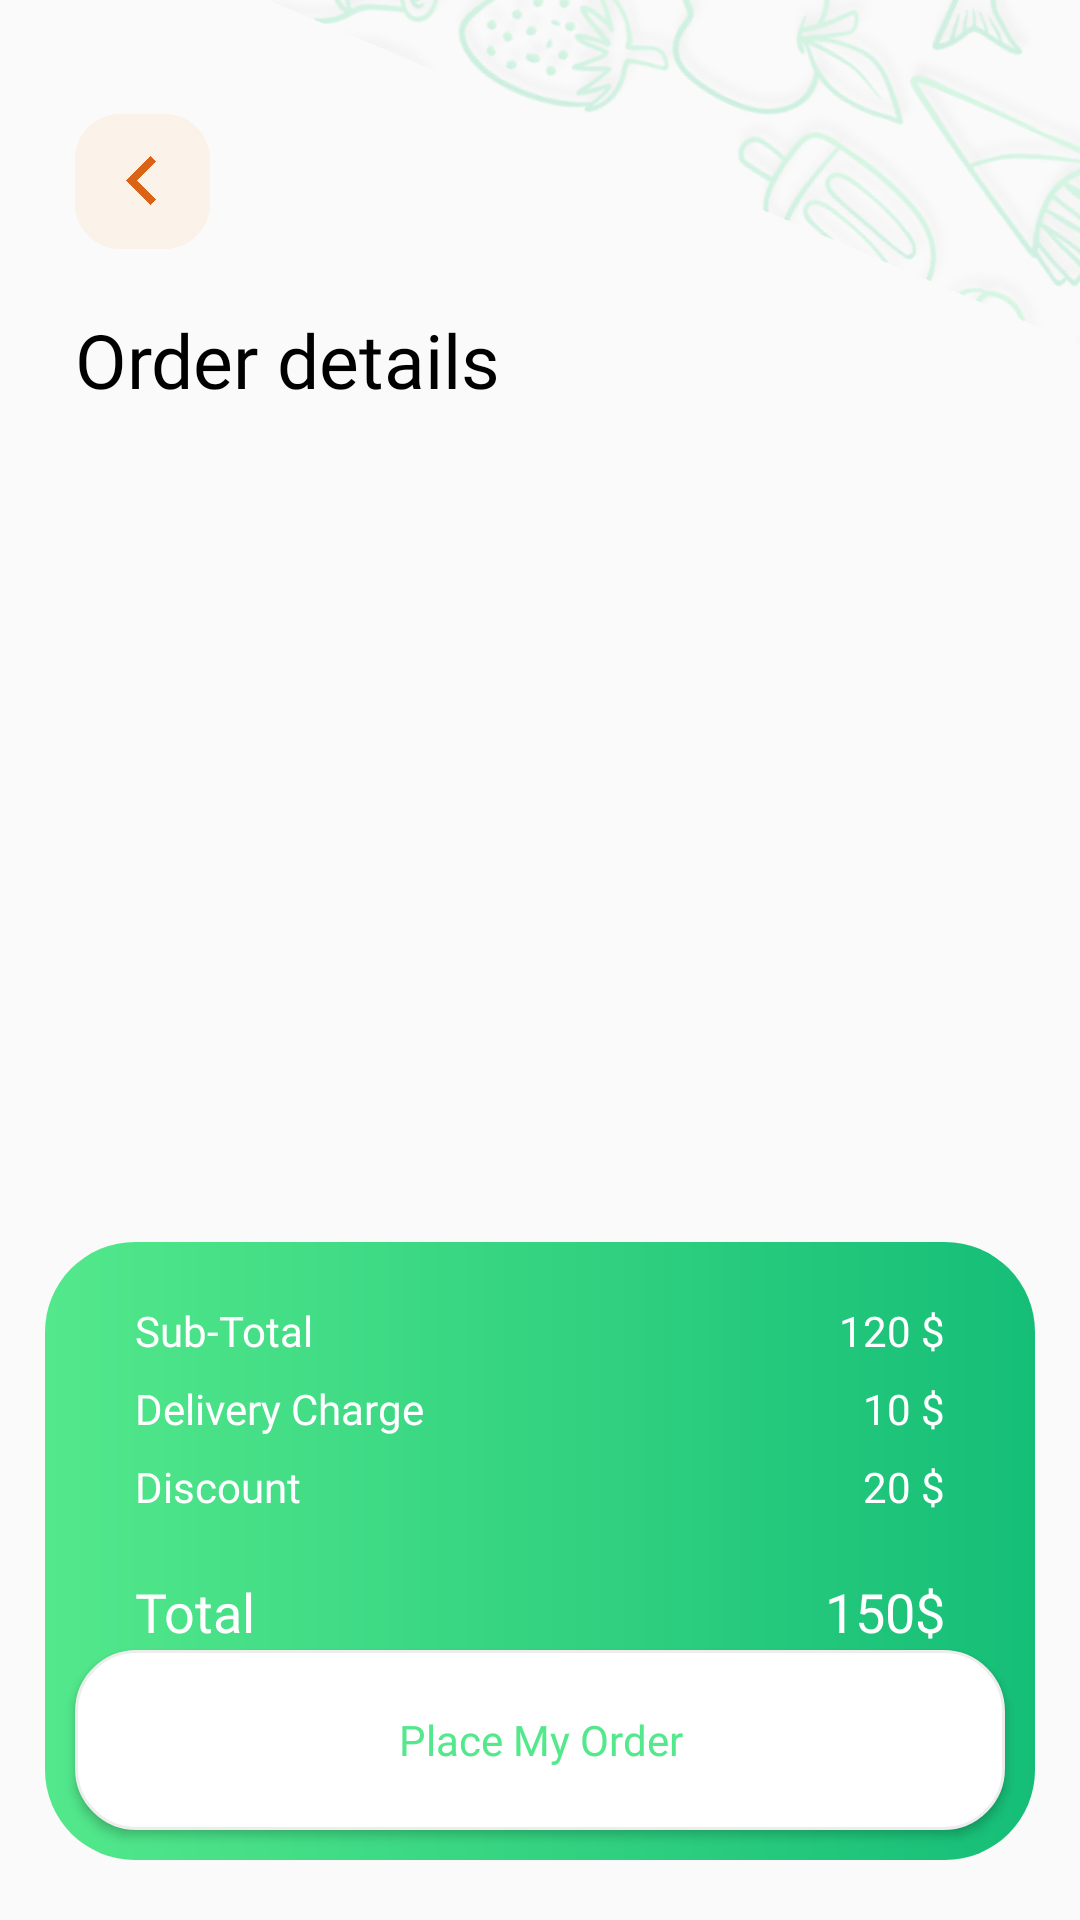

Screen size 1080px×1920px. Icon name, then its box in pixels as region(x1, y1, x2, y2):
backicon: region(75, 114, 210, 249)
